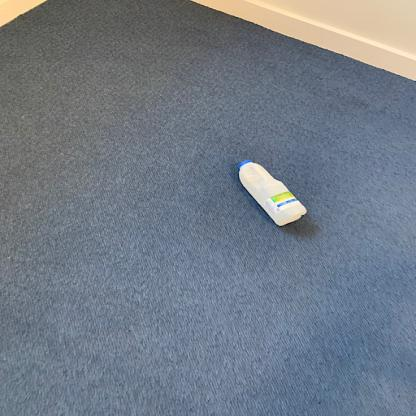trash: (237, 158, 308, 230)
